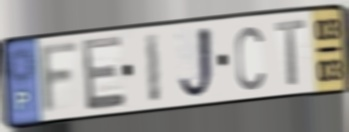C: (233, 24, 266, 94)
E: (79, 33, 128, 114)
F: (38, 38, 82, 119)
I: (143, 30, 163, 106)
J: (177, 24, 218, 103)
T: (273, 16, 308, 88)
